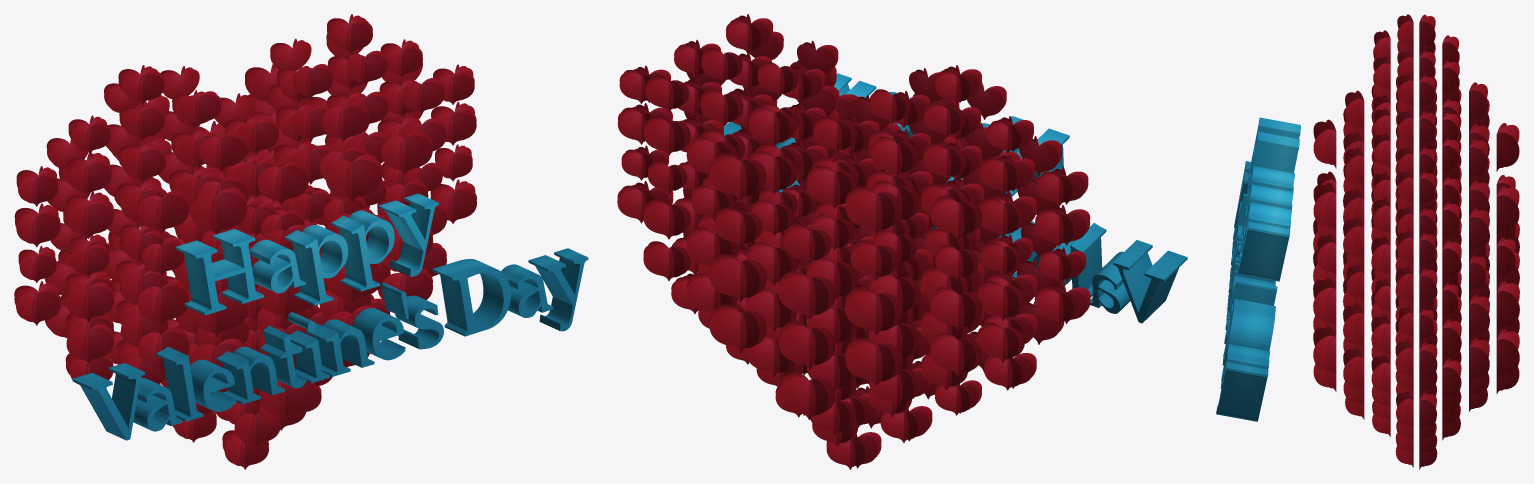
The model's file is heart_obj.glb.
The picture shows the model from 3 angles, left to right: view 1: azimuth 30°, elevation 25°; view 2: azimuth 150°, elevation 25°; view 3: azimuth 270°, elevation 25°; orthographic projection. The views are drawn at different scales.
Visible parts, largest first — view 1: Curve.597; view 2: Curve.597; view 3: Curve.597.
Boxes of the visible parts, x1=… form: Curve.597: x1=14, y1=14, x2=588, y2=469; Curve.597: x1=617, y1=14, x2=1187, y2=469; Curve.597: x1=1216, y1=14, x2=1519, y2=469.
Size of the model in its own units: 2.29 by 1.9 by 1.3.
Materials: 2 (2 with a texture image).
